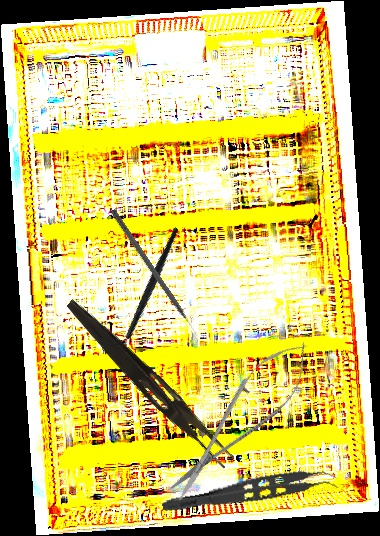Chopper: (81, 226, 218, 366)
Dressing Forceps: (57, 296, 241, 470)
Hook Surgical: (108, 208, 199, 337)
Micro Scissor: (153, 327, 326, 514)
Tissue Forceps: (160, 461, 340, 528)
